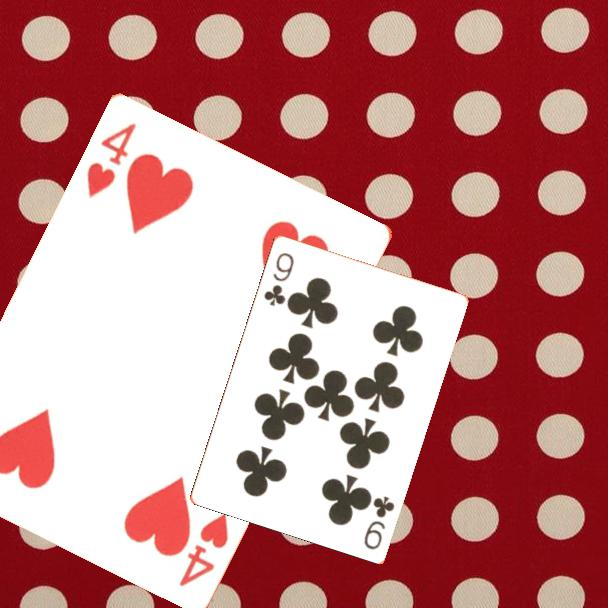c09: (260, 249, 297, 309), (360, 492, 397, 552)
h04: (83, 120, 140, 203), (175, 509, 232, 591)
